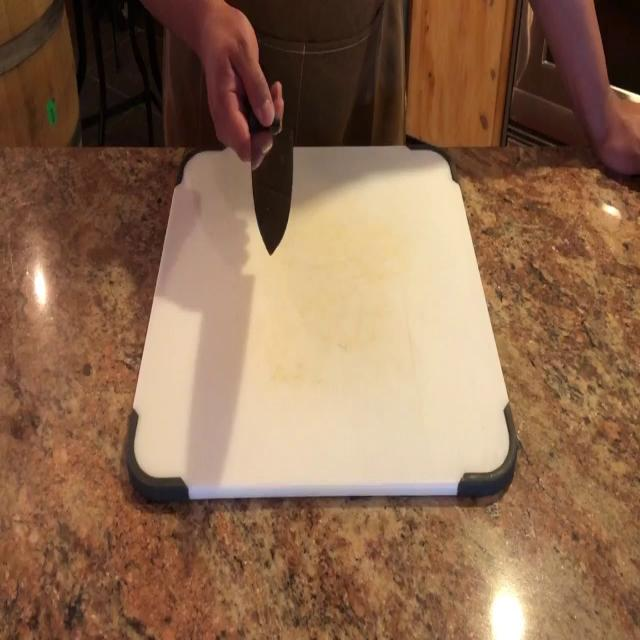knife: (249, 103, 294, 262)
